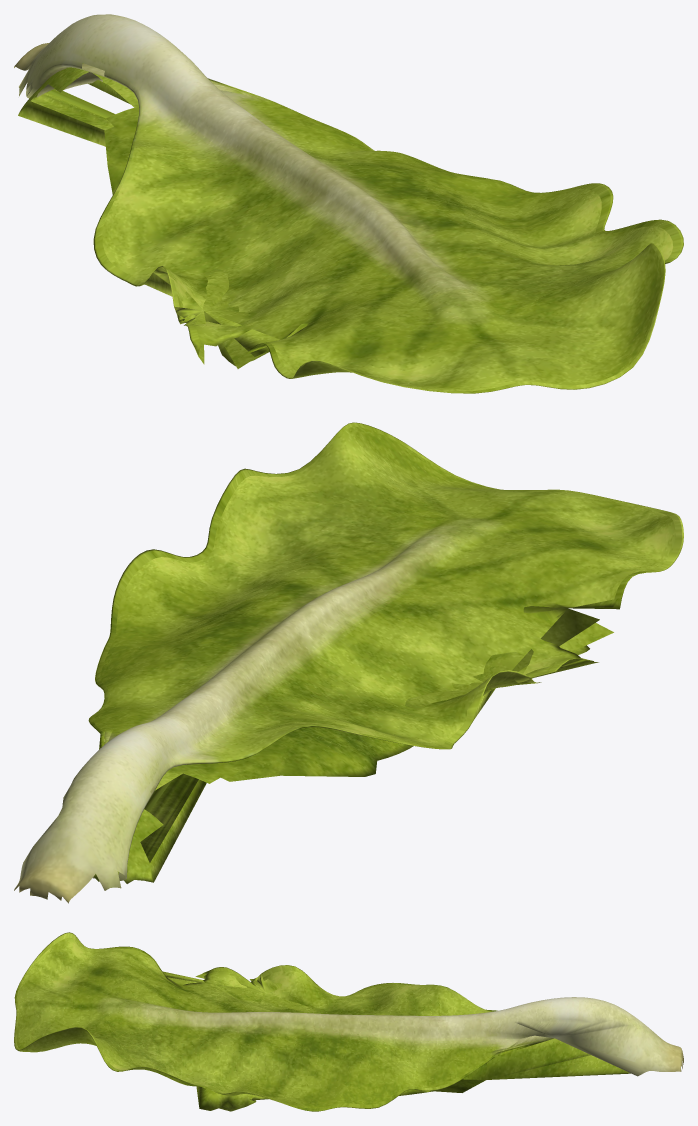
Rendered from lettace.dae.
3 renders of one model, top to bottom at view 1: azimuth 30°, elevation 25°; view 2: azimuth 150°, elevation 25°; view 3: azimuth 270°, elevation 25°, orthographic. The views are drawn at different scales.
Parts seen in each view (by area): view 1: 10188_LettuceRomaine_v1-L2; view 2: 10188_LettuceRomaine_v1-L2; view 3: 10188_LettuceRomaine_v1-L2.
Boxes of the visible parts, box(x1,y1,x2,y2) form: 10188_LettuceRomaine_v1-L2: box(14, 14, 683, 393); 10188_LettuceRomaine_v1-L2: box(14, 422, 683, 903); 10188_LettuceRomaine_v1-L2: box(14, 932, 683, 1111).
Size of the model in its own units: 13.55 by 27.2 by 3.64.
Materials: 1 (1 with a texture image).
